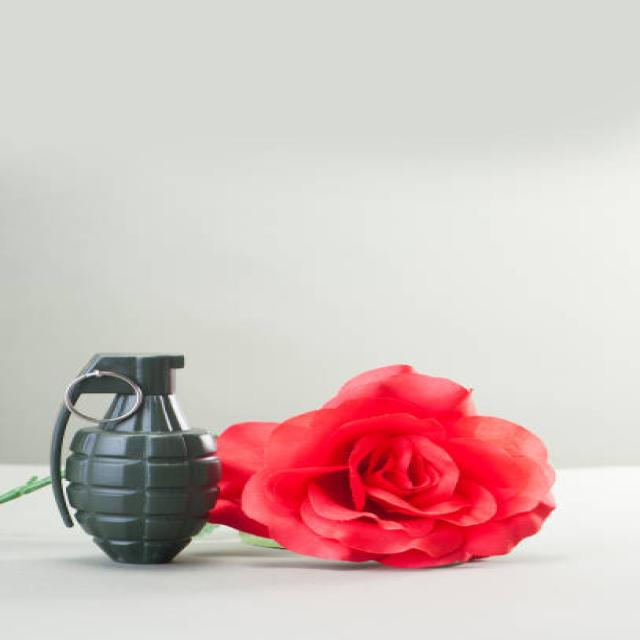grenade: (47, 343, 228, 570)
